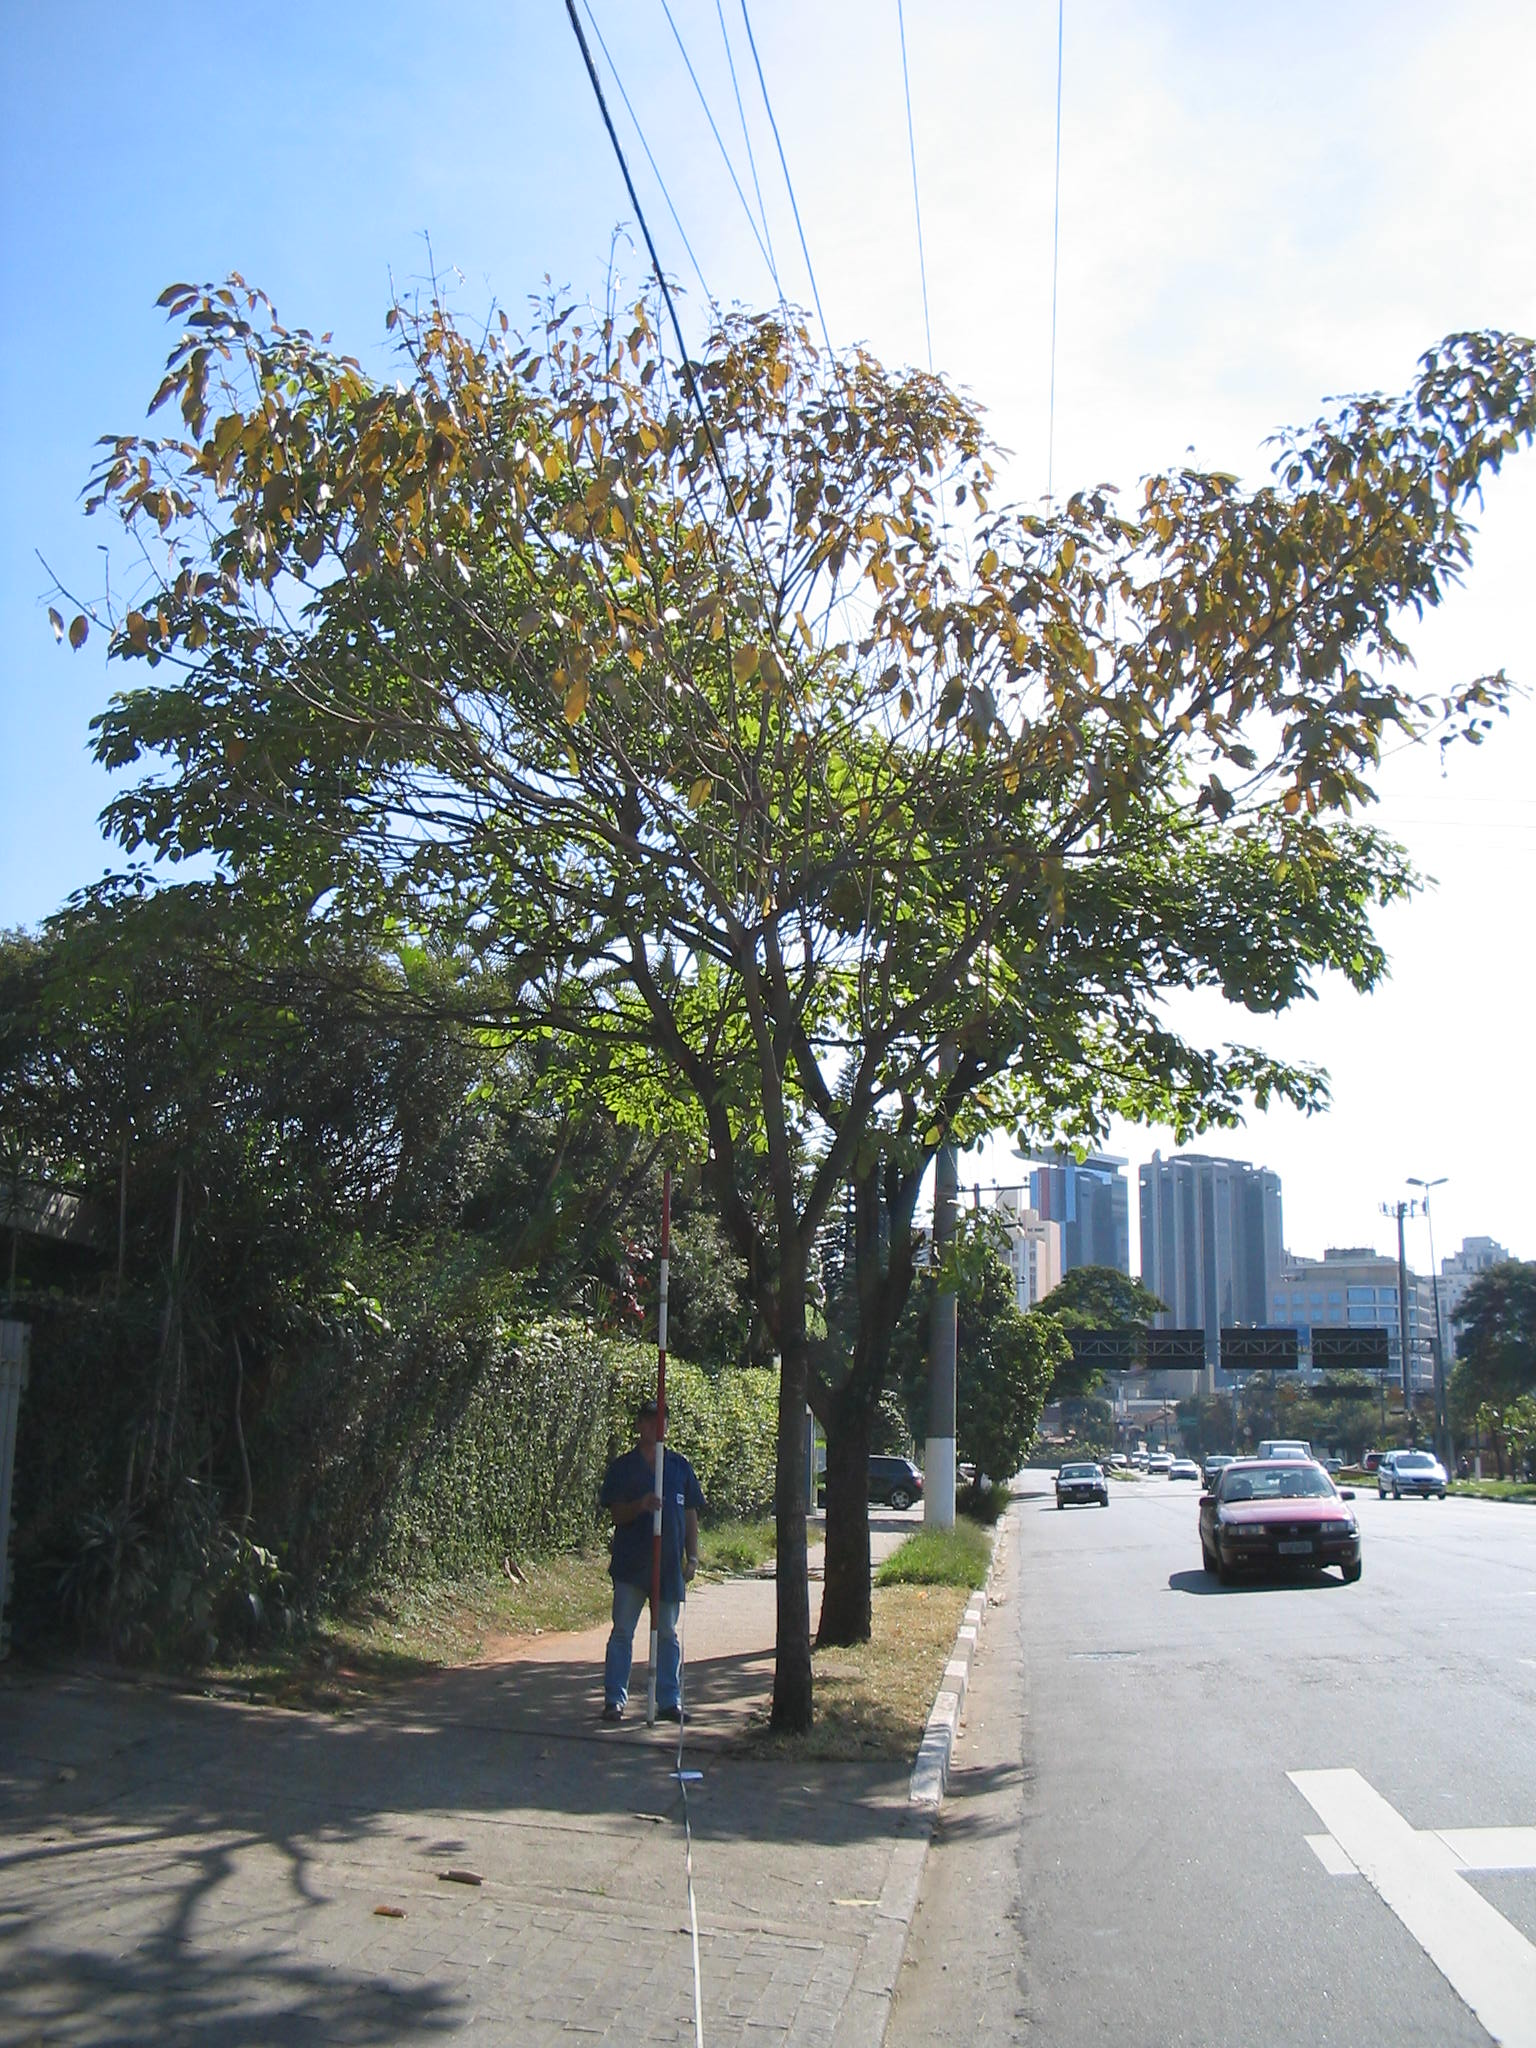crown: (60, 224, 1523, 1090)
stem: (733, 1229, 824, 1732), (816, 1411, 899, 1646)
stick: (637, 1176, 691, 1724)
tree: (52, 218, 1536, 1738)
